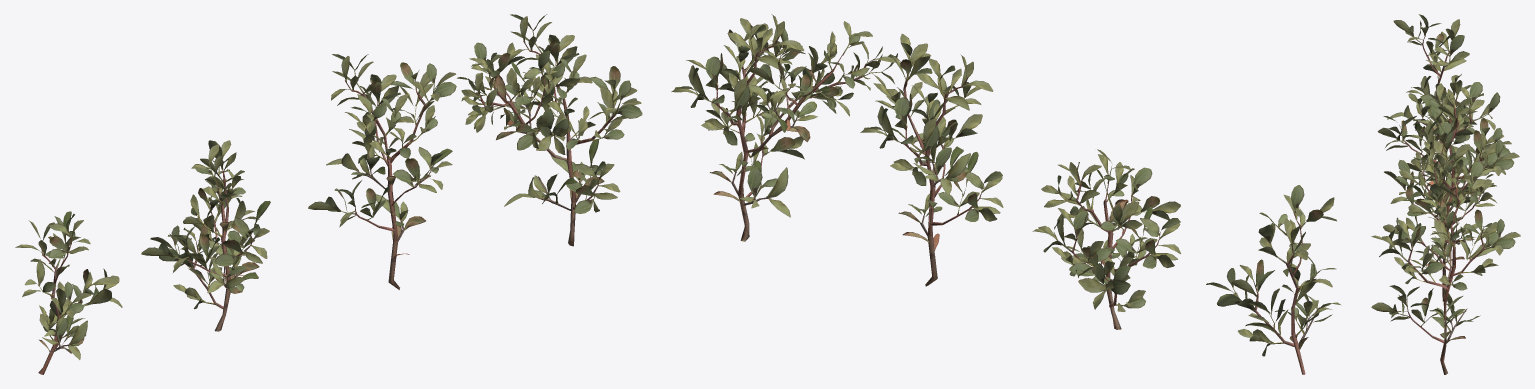
Rendered from shrub_04.glb.
The picture shows the model from 3 angles, left to right: view 1: azimuth 30°, elevation 25°; view 2: azimuth 150°, elevation 25°; view 3: azimuth 270°, elevation 25°; orthographic projection. The views are drawn at different scales.
Visible parts, largest first — view 1: shrub_04; view 2: shrub_04; view 3: shrub_04.
Boxes of the visible parts, x1,y1,x2,y2 form: shrub_04: [15, 14, 642, 374]; shrub_04: [671, 14, 1341, 374]; shrub_04: [1371, 14, 1520, 374].
Bounding box in the file's own units: 0.5833 × 0.2185 × 0.146.
Materials: 1 (1 with a texture image).
